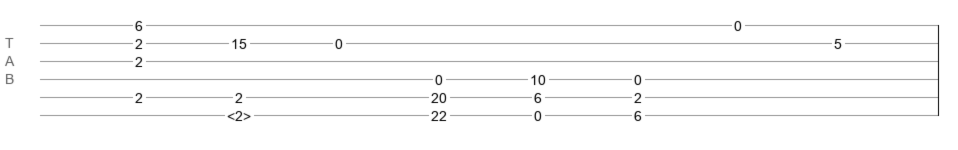0: (335, 36, 343, 46), (435, 72, 443, 82), (534, 108, 542, 118), (634, 72, 642, 82), (734, 18, 742, 28)
10: (530, 72, 546, 82)
15: (231, 36, 247, 46)
2: (135, 90, 143, 100), (135, 36, 143, 46), (135, 54, 143, 64), (235, 90, 243, 100), (634, 90, 642, 100)
20: (431, 90, 447, 100)
22: (431, 108, 447, 118)
5: (834, 36, 842, 46)
6: (135, 18, 143, 28), (534, 90, 542, 100), (634, 108, 642, 118)
harmonic: (227, 108, 251, 118)
